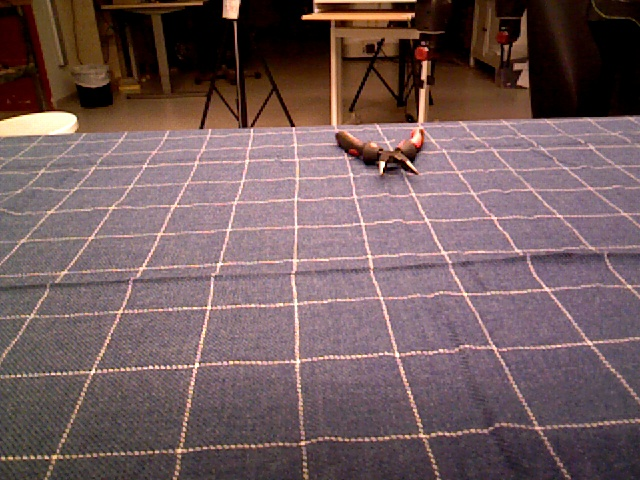plier1: (335, 126, 424, 178)
